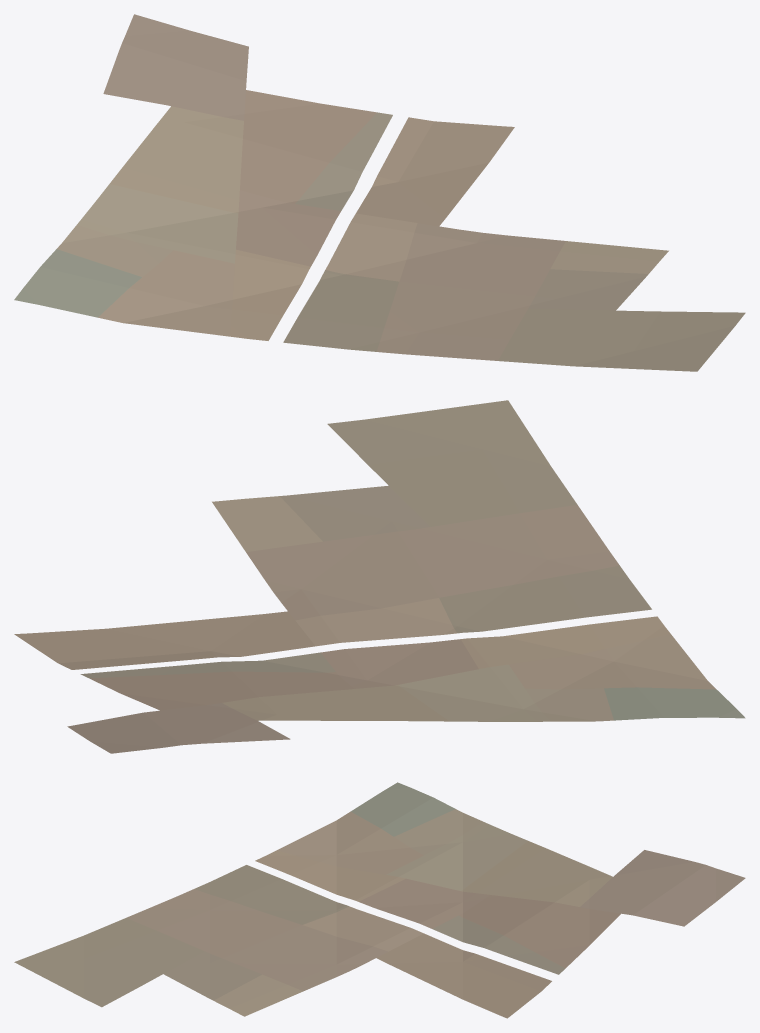
The model's file is farm_-6_-3_soil.glb.
The picture shows the model from 3 angles, top to bottom: view 1: azimuth 30°, elevation 25°; view 2: azimuth 150°, elevation 25°; view 3: azimuth 270°, elevation 25°; orthographic projection. The views are drawn at different scales.
Visible parts, largest first — view 1: geometry_0; view 2: geometry_0; view 3: geometry_0.
Boxes of the visible parts, x1=… form: geometry_0: x1=14, y1=14, x2=745, y2=371; geometry_0: x1=14, y1=400, x2=745, y2=753; geometry_0: x1=14, y1=782, x2=745, y2=1018.
Bounding box in the file's own units: 335 × 36.28 × 463.
